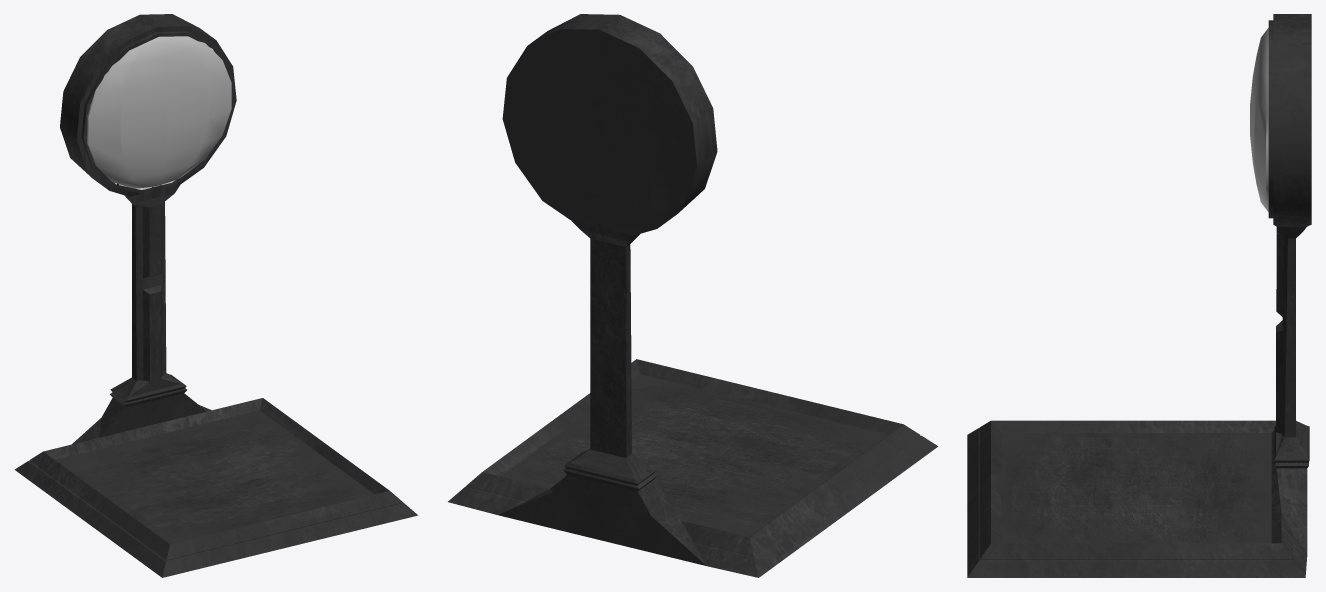
Rendered from PP_Final_Update.fbx.
3 renders of one model, left to right at view 1: azimuth 30°, elevation 25°; view 2: azimuth 150°, elevation 25°; view 3: azimuth 270°, elevation 25°, orthographic. The views are drawn at different scales.
Parts seen in each view (by area): view 1: Sphere; view 2: Sphere; view 3: Sphere.
Boxes of the visible parts, left/top/right/bottom form: Sphere: left=14, top=14, right=418, bottom=577; Sphere: left=448, top=14, right=937, bottom=577; Sphere: left=967, top=14, right=1311, bottom=577.
Size of the model in its own units: 119 by 187 by 121.
